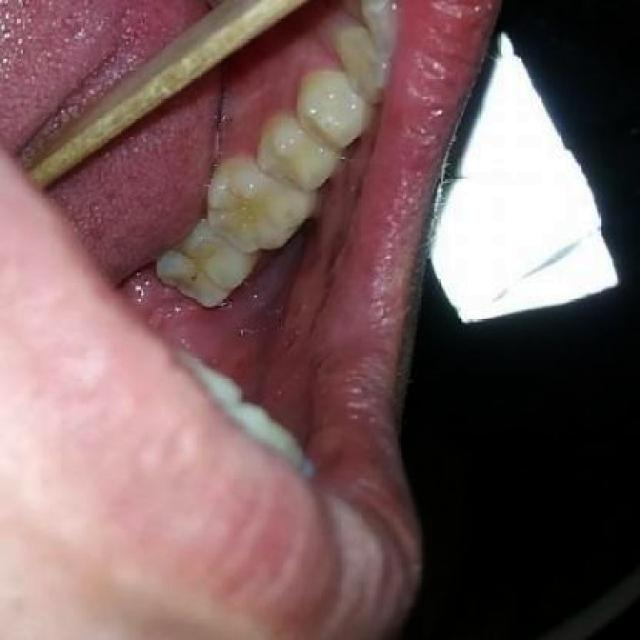Plaque: (184, 270, 203, 284)
